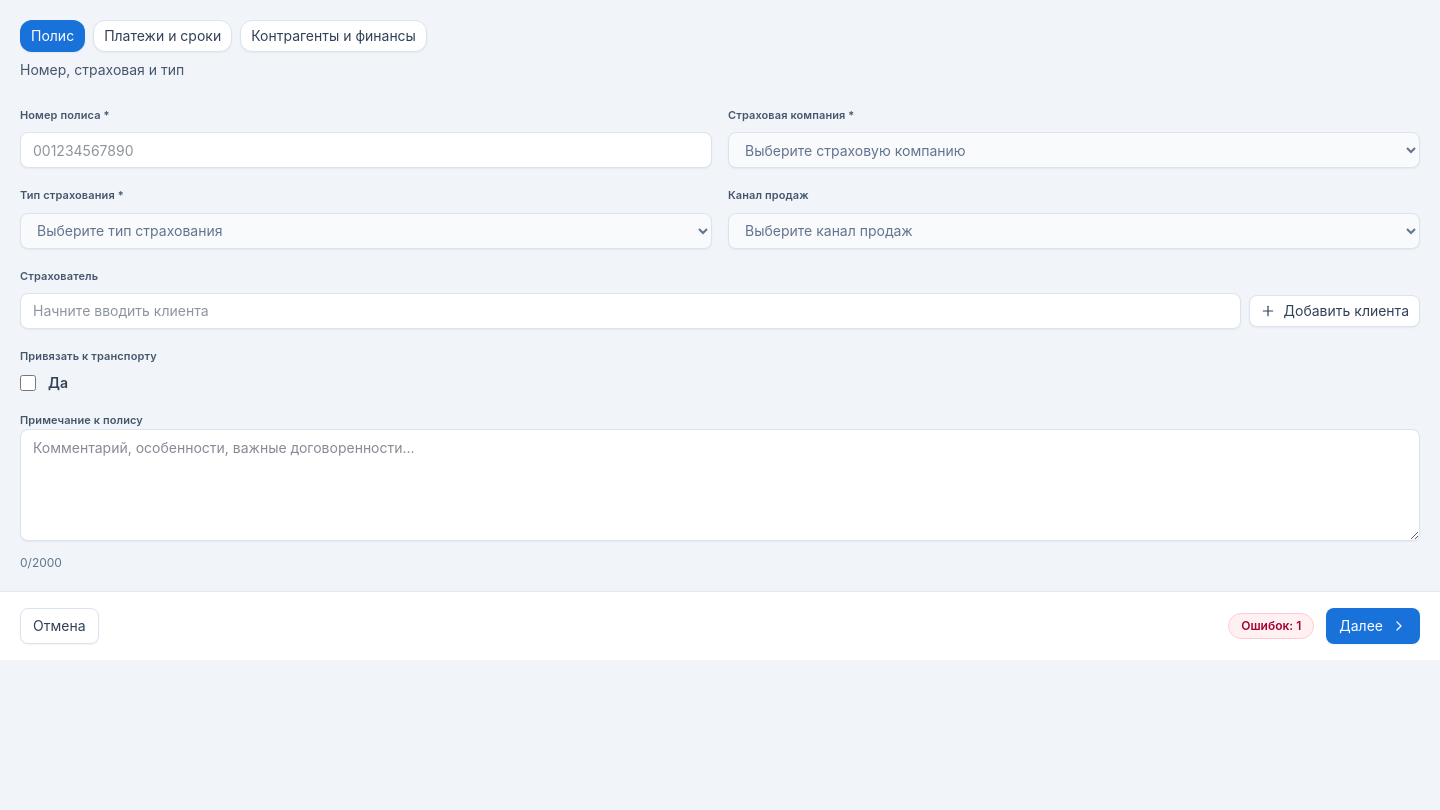
AddPolicyForm › auto-adds counterparty and executor expenses to newly added payments in create mode
This screenshot has width=1440, height=810.
What coordinates should you click on to do the following:
click the button "Платежи и сроки"
I would click on:
 (163, 36)
Its box is [93, 20, 232, 52].
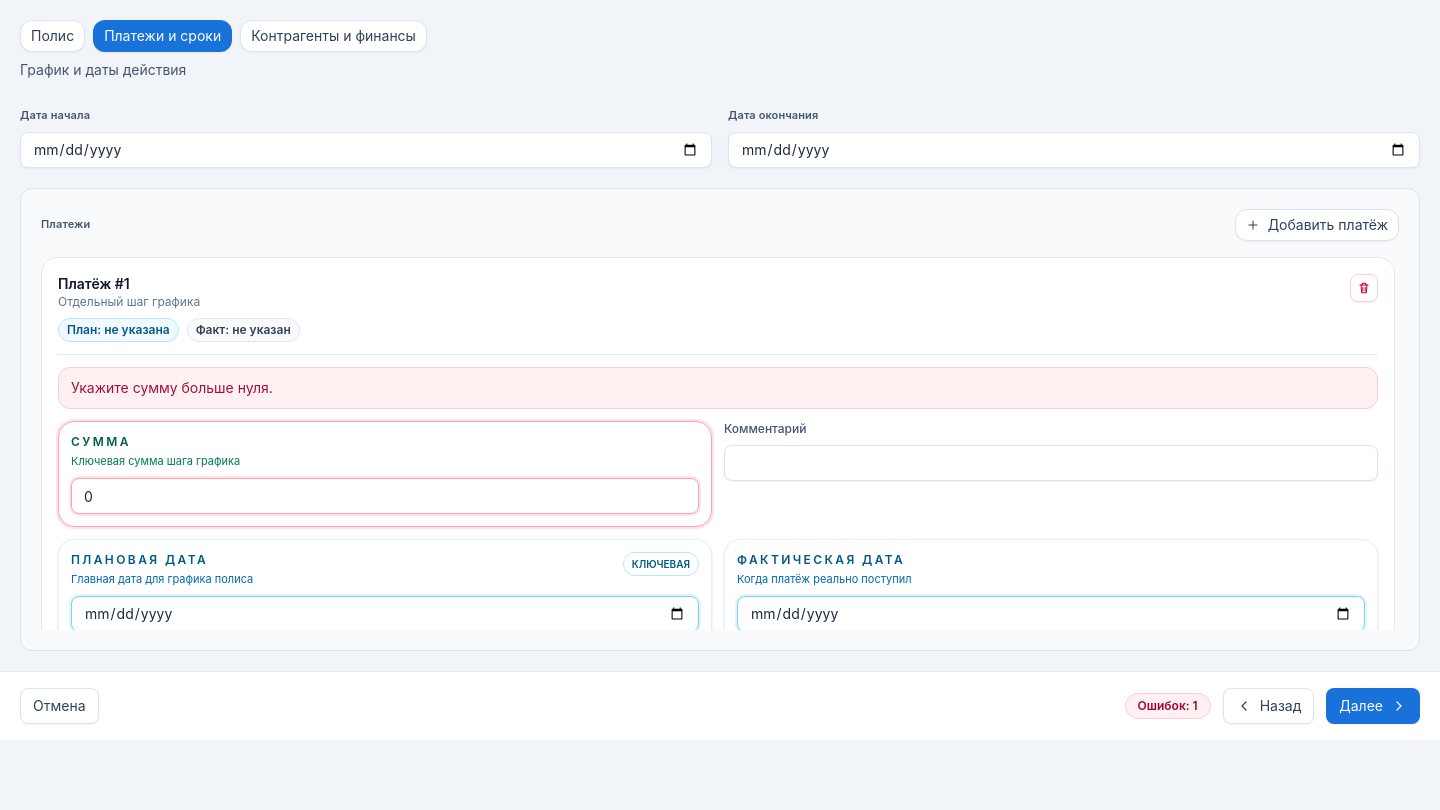
What coordinates should you click on to do the following:
click the button "Добавить платёж"
I would click on:
 (1317, 225)
Its box is [1235, 209, 1399, 241].
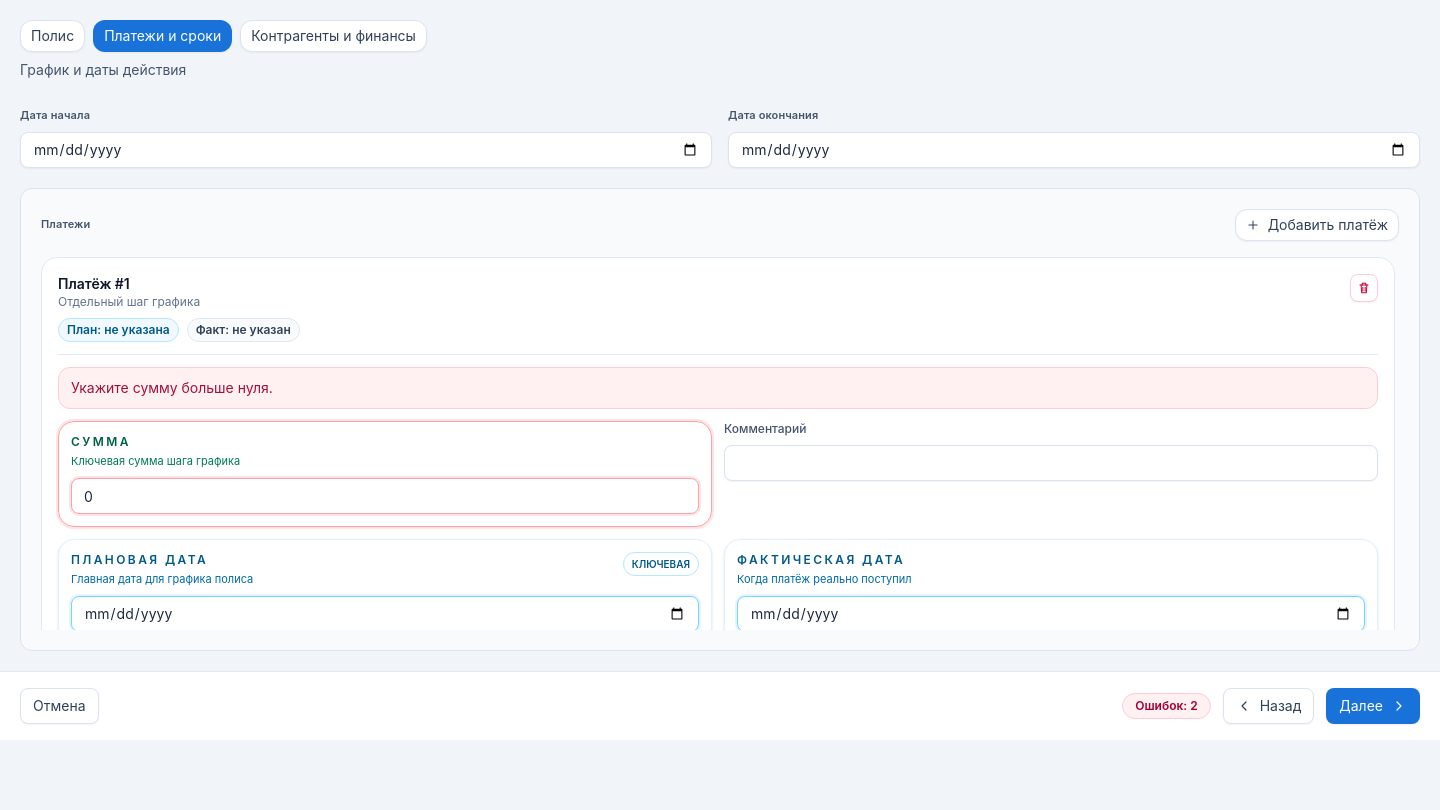
What coordinates should you click on to do the following:
click the button "Контрагенты и финансы"
I would click on:
 (334, 36)
Its box is [240, 20, 427, 52].
(page scrolled)
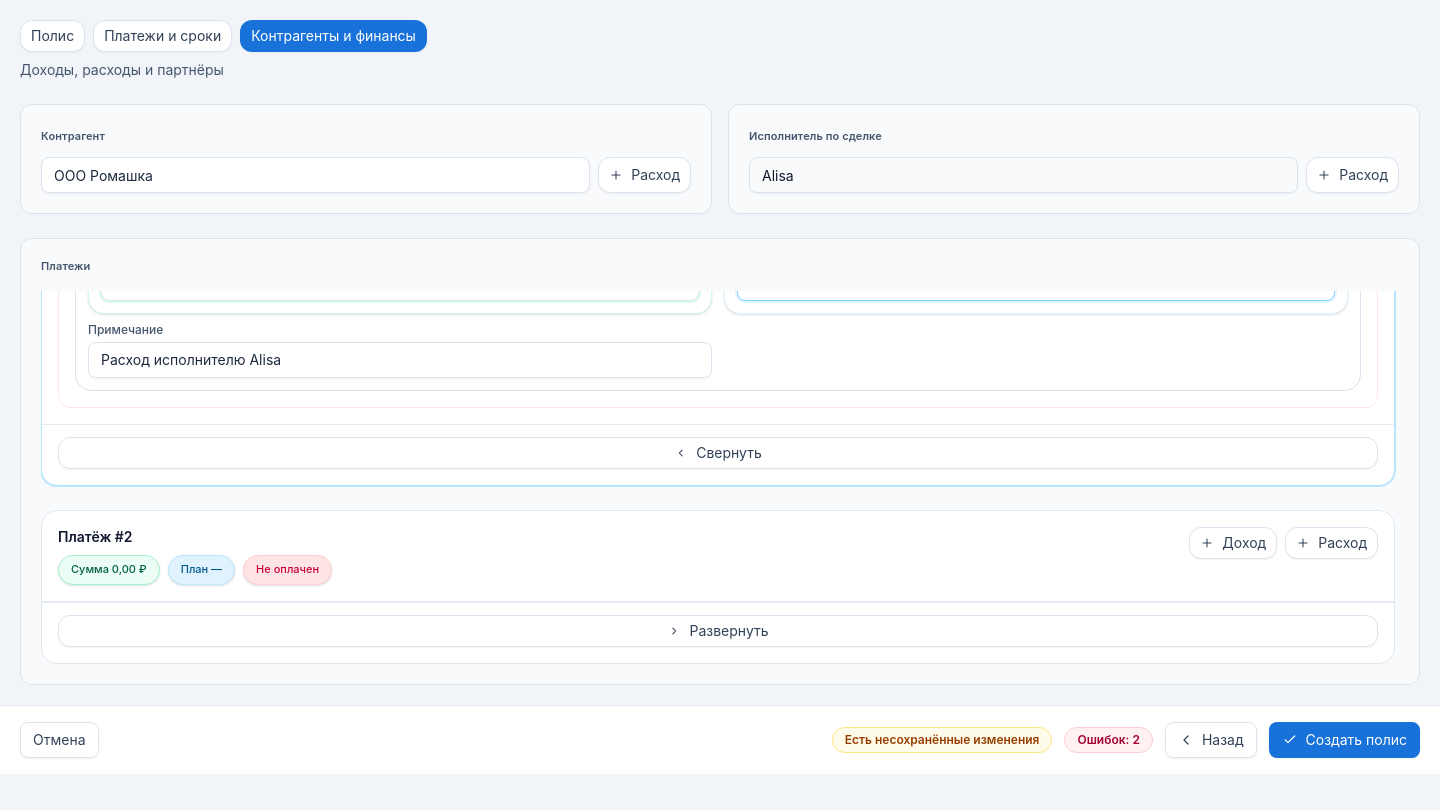
Expected: the field showing "Расход исполнителю Alisa" below "Примечание" is shown, [88, 342, 712, 378]
What coordinates should you click on to do the following:
click the button "Развернуть"
I would click on:
 (718, 631)
Its box is [58, 615, 1378, 647].
(page scrolled)
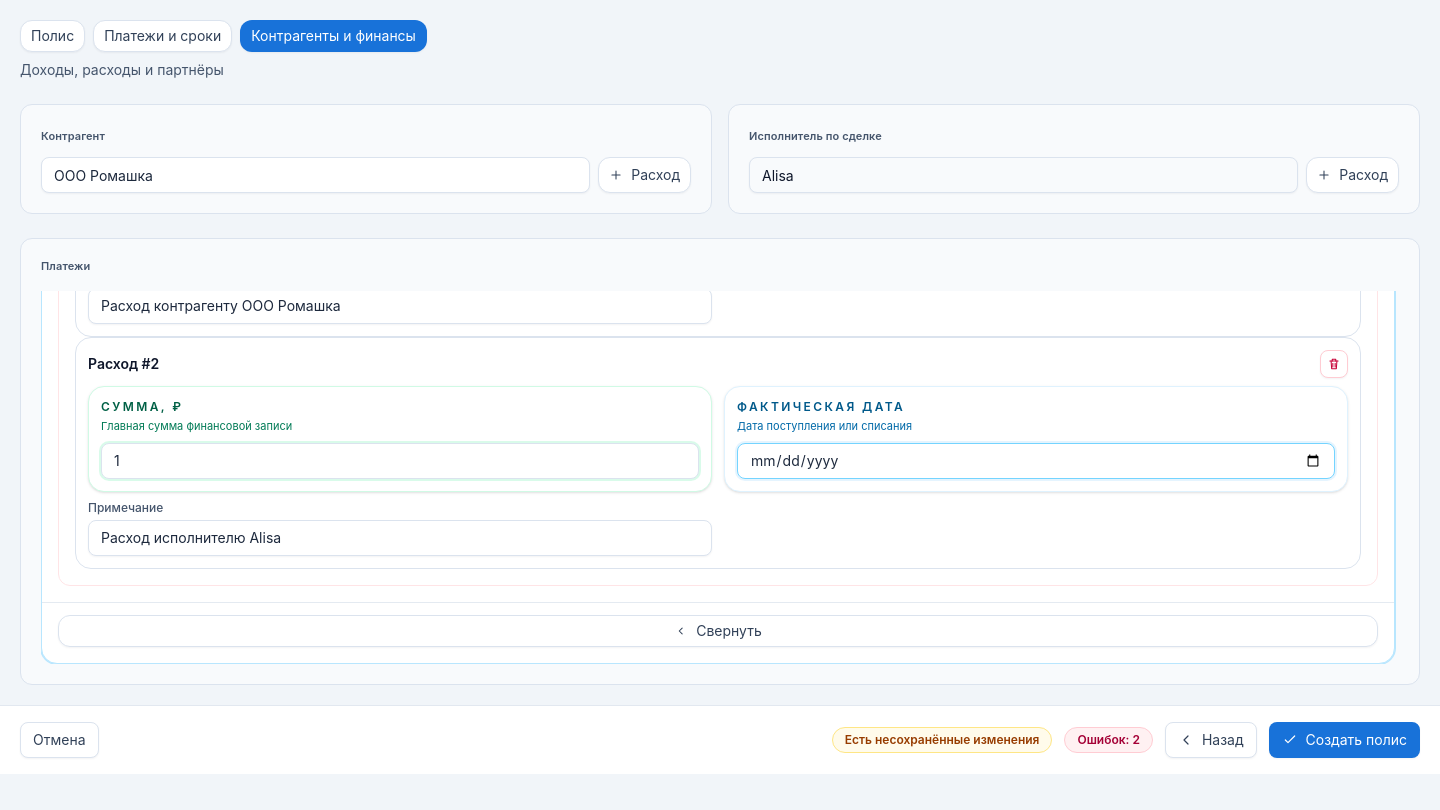
Expected: the field showing "Расход контрагенту ООО Ромашка" below "Примечание" is shown, [88, 291, 712, 324]
Expected: the field showing "Расход исполнителю Alisa" below "Примечание" is shown, [88, 520, 712, 556]
